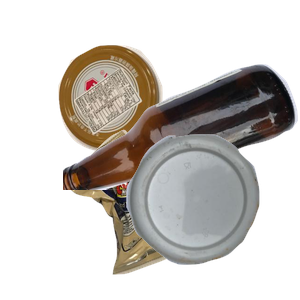glass: (63, 62, 300, 242)
metal: (56, 43, 211, 187)
plastic: (124, 132, 300, 300)
trash: (61, 127, 260, 300)
